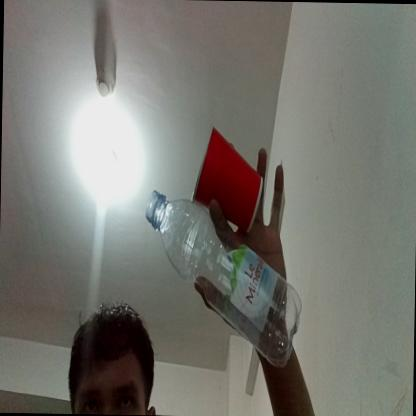objects: (191, 130, 262, 239)
plastic_bottles: (143, 188, 302, 369)
